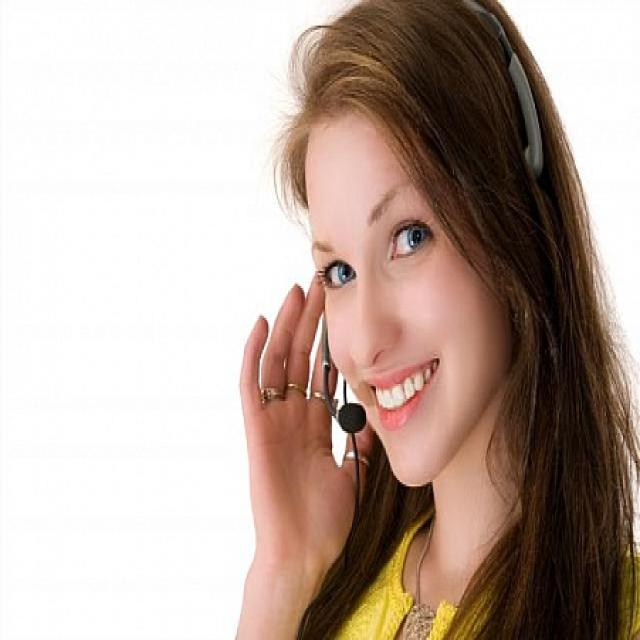Eyes: (305, 205, 443, 298)
